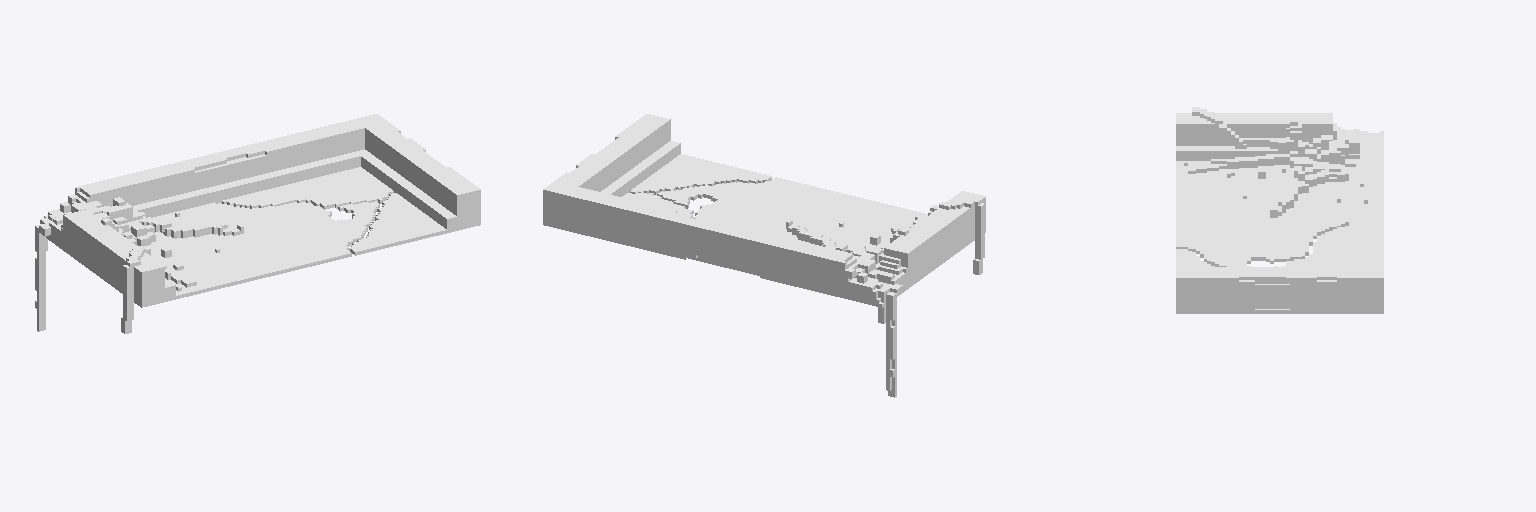
The model's file is VoxelNuke-15-Rooftop-0.obj.
3 views of the same model, side by side, from view 1: azimuth 30°, elevation 25°; view 2: azimuth 150°, elevation 25°; view 3: azimuth 270°, elevation 25° (orthographic).
Parts seen in each view (by area): view 1: Rooftop-0; view 2: Rooftop-0; view 3: Rooftop-0.
Boxes of the visible parts, x1=… form: Rooftop-0: x1=35, y1=114, x2=480, y2=333; Rooftop-0: x1=543, y1=114, x2=985, y2=397; Rooftop-0: x1=1176, y1=107, x2=1383, y2=313.
Size of the model in its own units: 2.04 by 0.74 by 1.06.